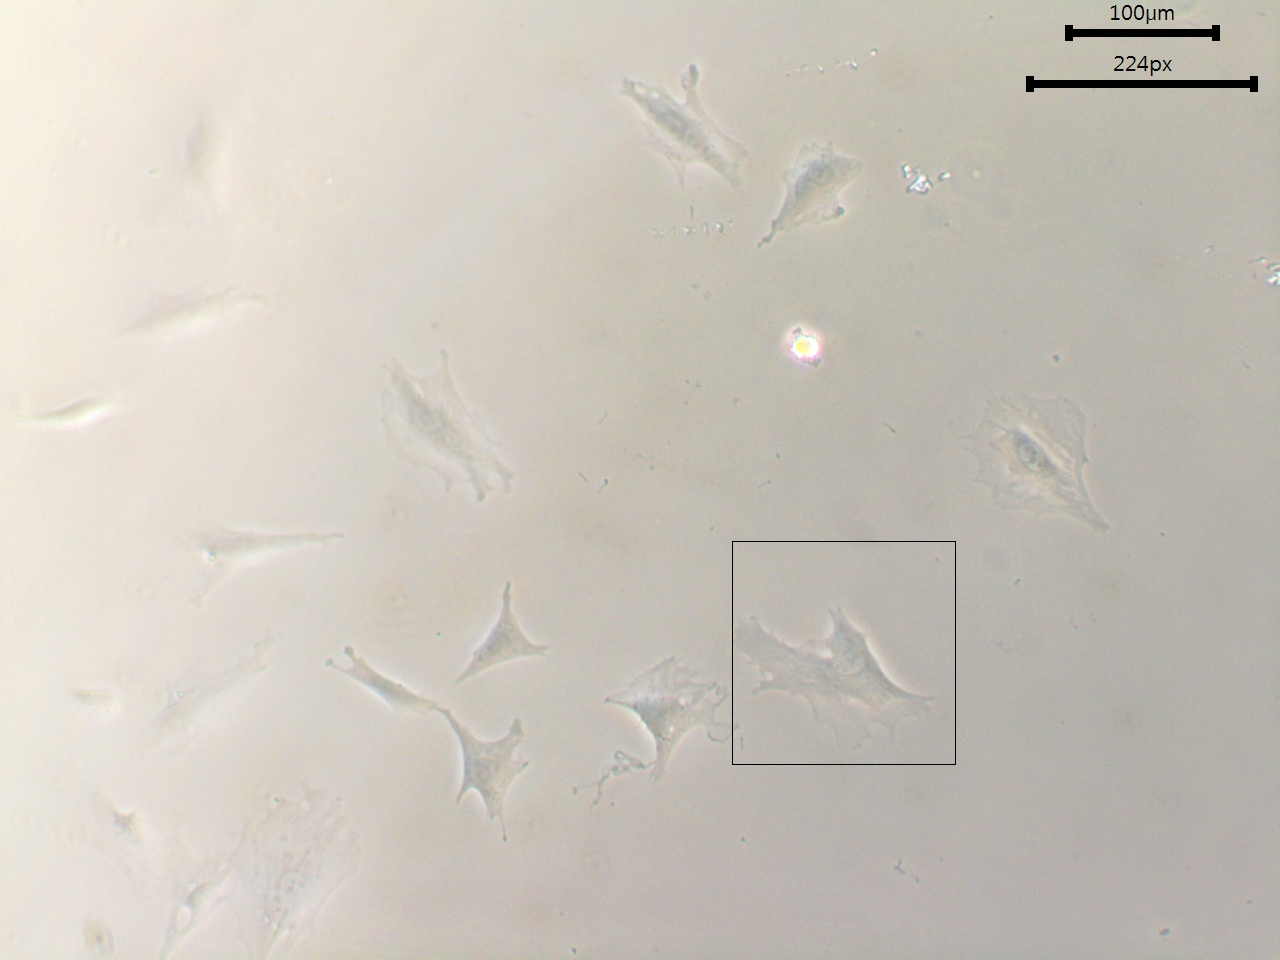medium-polygonal: (367, 347, 529, 518), (176, 508, 348, 606)
medium-spread: (735, 598, 941, 750), (953, 379, 1123, 563)
small-polygonal: (603, 56, 760, 192), (439, 700, 539, 859), (767, 132, 870, 260), (456, 576, 558, 690), (326, 632, 438, 721)
